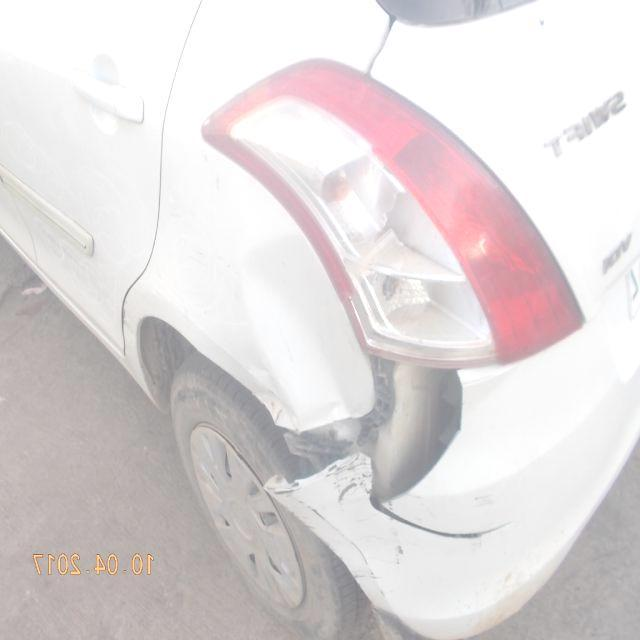minor: (225, 175, 528, 593)
